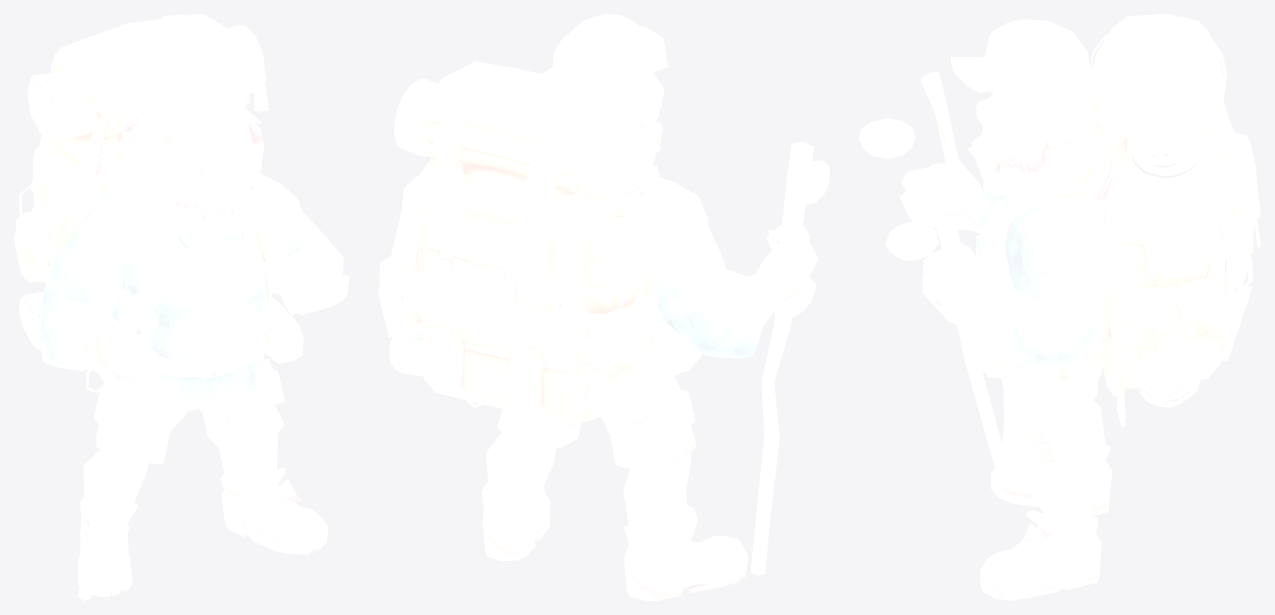
3 renders of one model, left to right at view 1: azimuth 30°, elevation 25°; view 2: azimuth 150°, elevation 25°; view 3: azimuth 270°, elevation 25°, orthographic. The views are drawn at different scales.
Visible parts, largest first — view 1: mesh_node; view 2: mesh_node; view 3: mesh_node.
Boxes of the visible parts, box(x1,y1,x2,y2) form: mesh_node: box(14, 14, 349, 600); mesh_node: box(378, 14, 829, 600); mesh_node: box(858, 14, 1260, 600).
Size of the model in its own units: 0.623 by 1 by 0.7012.
1 material, 1 textured.
